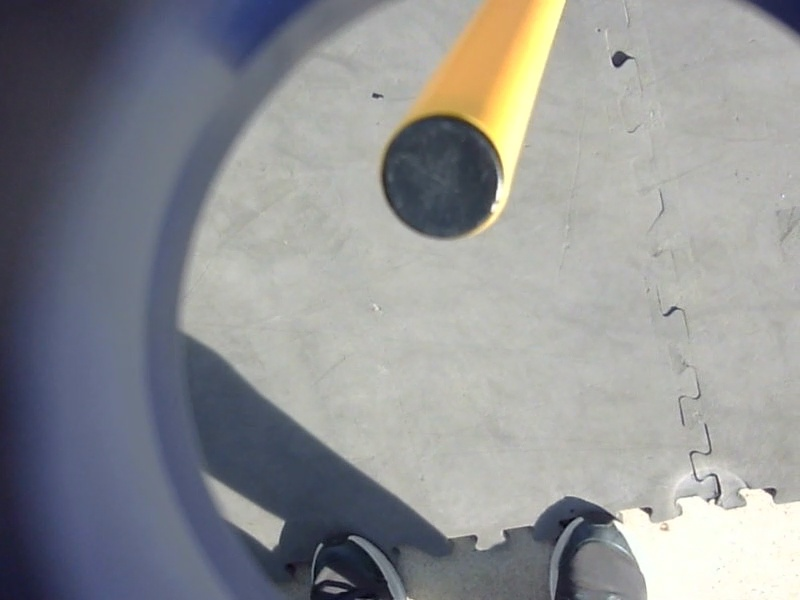tip: (374, 107, 512, 245)
